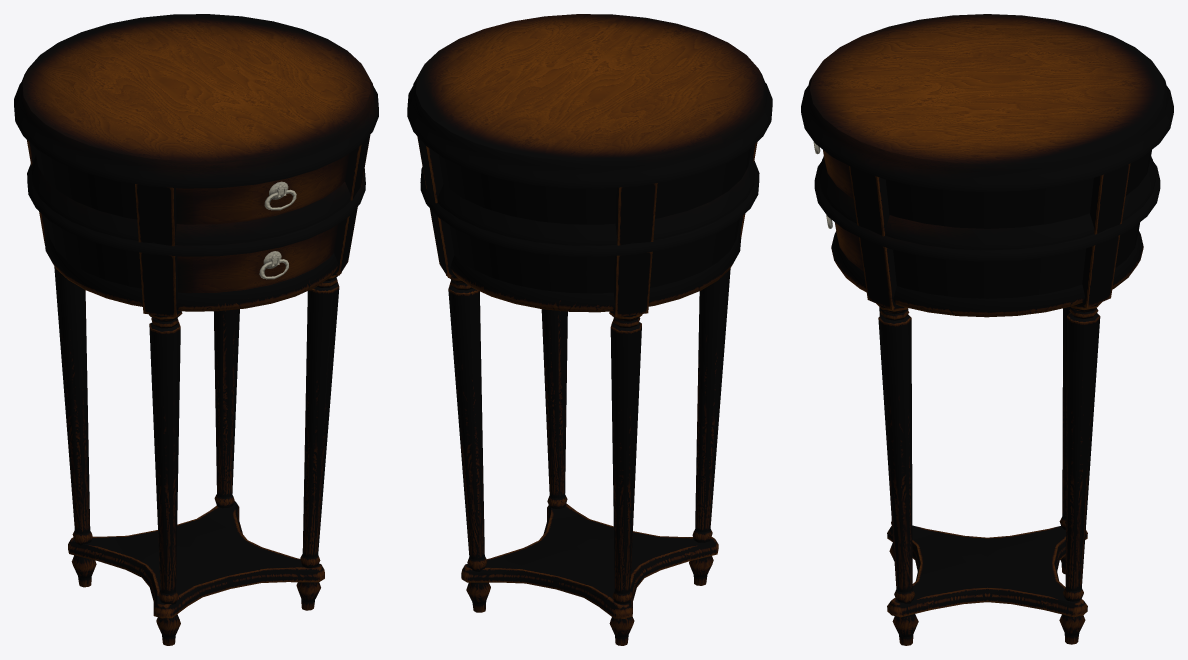
Rendered from Table.fbx.
3 views of the same model, side by side, from view 1: azimuth 30°, elevation 25°; view 2: azimuth 150°, elevation 25°; view 3: azimuth 270°, elevation 25° (orthographic).
Parts seen in each view (by area): view 1: endtable1 top _low.003; view 2: endtable1 top _low.003; view 3: endtable1 top _low.003.
Part boxes in pixels (x1,y1,x2,y2): endtable1 top _low.003: [14, 14, 378, 645]; endtable1 top _low.003: [407, 14, 772, 645]; endtable1 top _low.003: [801, 14, 1173, 645].
Bounding box in the file's own units: 0.562 × 0.8668 × 0.562.
